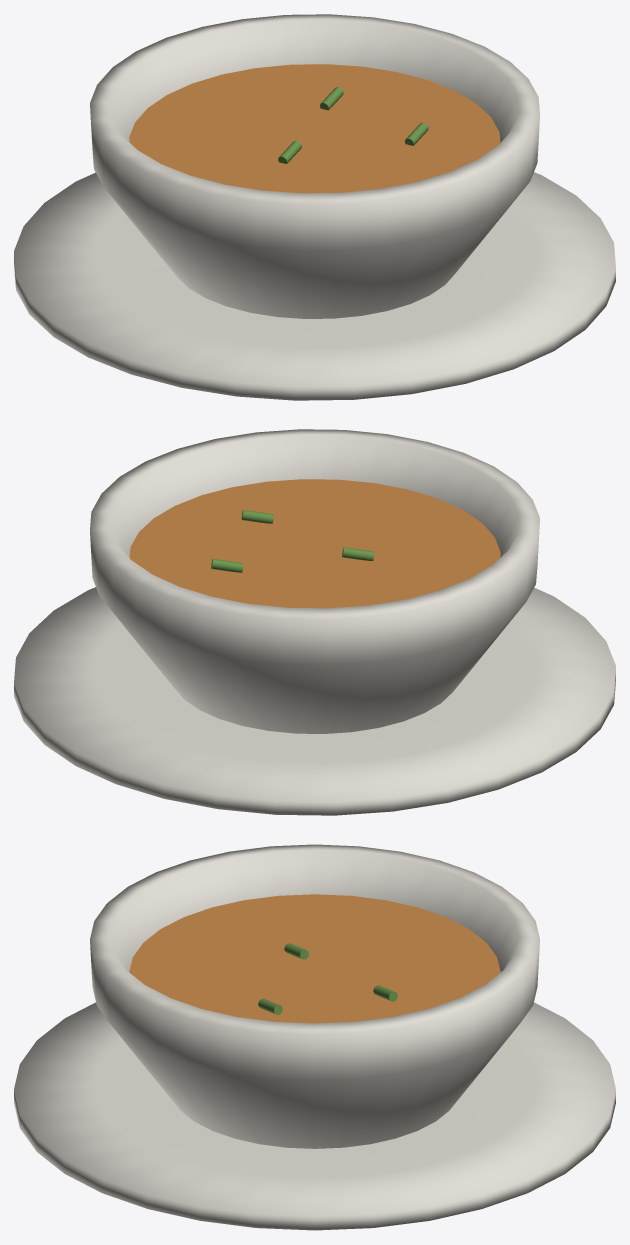
Rendered from sku_v24_soup_service.glb.
3 views of the same model, one above another, from view 1: azimuth 30°, elevation 25°; view 2: azimuth 150°, elevation 25°; view 3: azimuth 270°, elevation 25° (orthographic).
Parts seen in each view (by area): view 1: sku_v24_soup_service_V24_service_porcelain, sku_v24_soup_service_V24_roasted_soup, sku_v24_soup_service_V24_herb; view 2: sku_v24_soup_service_V24_service_porcelain, sku_v24_soup_service_V24_roasted_soup, sku_v24_soup_service_V24_herb; view 3: sku_v24_soup_service_V24_service_porcelain, sku_v24_soup_service_V24_roasted_soup, sku_v24_soup_service_V24_herb.
Part boxes in pixels (x1,y1,x2,y2): sku_v24_soup_service_V24_service_porcelain: (14,14,615,400); sku_v24_soup_service_V24_roasted_soup: (129,64,500,193); sku_v24_soup_service_V24_herb: (278,87,428,163); sku_v24_soup_service_V24_service_porcelain: (14,429,615,815); sku_v24_soup_service_V24_roasted_soup: (129,479,500,608); sku_v24_soup_service_V24_herb: (211,510,374,572); sku_v24_soup_service_V24_service_porcelain: (14,844,615,1230); sku_v24_soup_service_V24_roasted_soup: (129,894,500,1023); sku_v24_soup_service_V24_herb: (258,943,397,1014).
Size of the model in its own units: 0.23 by 0.076 by 0.23.
